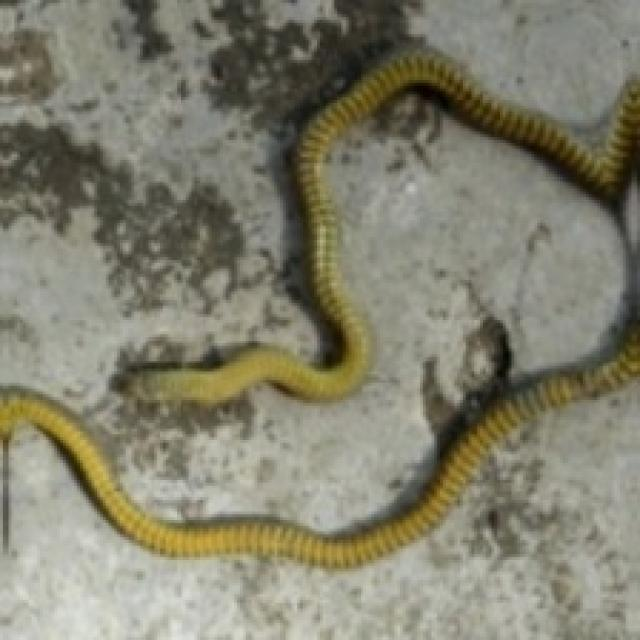gervais worm snake: (126, 49, 637, 403), (0, 311, 637, 566)
